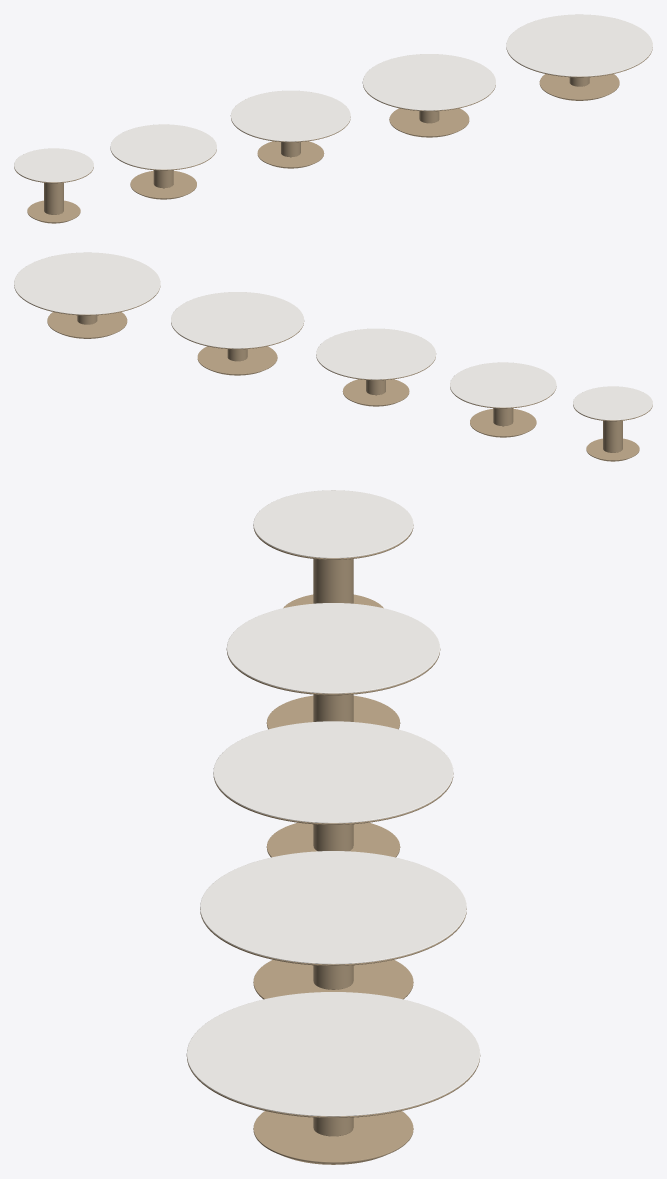
File: orbit3d_familia.glb
3 renders of one model, top to bottom at view 1: azimuth 30°, elevation 25°; view 2: azimuth 150°, elevation 25°; view 3: azimuth 270°, elevation 25°, orthographic. The views are drawn at different scales.
Parts seen in each view (by area): view 1: Top Orbit Coffee Table 024, Top Orbit Coffee Table 023, Top Orbit Coffee Table 022, Top Orbit Coffee Table 021, Top Orbit Coffee Table 020, Base Orbit Coffee Table 023, Base Orbit Coffee Table 024, Base Orbit Coffee Table 021, Base Orbit Coffee Table 022, Base Orbit Coffee Table 020, Base Element Orbit Coffee Table 023, Base Element Orbit Coffee Table 024; view 2: Top Orbit Coffee Table 024, Top Orbit Coffee Table 023, Top Orbit Coffee Table 022, Top Orbit Coffee Table 021, Top Orbit Coffee Table 020, Base Orbit Coffee Table 023, Base Orbit Coffee Table 024, Base Orbit Coffee Table 021, Base Orbit Coffee Table 022, Base Orbit Coffee Table 020, Base Element Orbit Coffee Table 023, Base Element Orbit Coffee Table 024; view 3: Top Orbit Coffee Table 024, Top Orbit Coffee Table 023, Top Orbit Coffee Table 022, Top Orbit Coffee Table 021, Top Orbit Coffee Table 020, Base Orbit Coffee Table 024, Base Orbit Coffee Table 023, Base Orbit Coffee Table 022, Base Orbit Coffee Table 021, Base Element Orbit Coffee Table 023, Base Element Orbit Coffee Table 024, Base Element Orbit Coffee Table 025.
Boxes of the visible parts, box(x1,y1,x2,y2) form: Top Orbit Coffee Table 024: box(506, 14, 652, 76); Top Orbit Coffee Table 023: box(362, 54, 495, 110); Top Orbit Coffee Table 022: box(231, 90, 350, 141); Top Orbit Coffee Table 021: box(110, 124, 216, 169); Top Orbit Coffee Table 020: box(14, 148, 93, 182); Base Orbit Coffee Table 023: box(389, 108, 469, 137); Base Orbit Coffee Table 024: box(539, 74, 619, 100); Base Orbit Coffee Table 021: box(130, 170, 196, 199); Base Orbit Coffee Table 022: box(257, 141, 324, 168); Base Orbit Coffee Table 020: box(27, 200, 80, 223); Base Element Orbit Coffee Table 023: box(44, 182, 63, 214); Base Element Orbit Coffee Table 024: box(153, 170, 173, 188); Top Orbit Coffee Table 024: box(14, 252, 160, 314); Top Orbit Coffee Table 023: box(171, 292, 304, 348); Top Orbit Coffee Table 022: box(316, 328, 435, 379); Top Orbit Coffee Table 021: box(450, 362, 556, 407); Top Orbit Coffee Table 020: box(573, 386, 652, 420); Base Orbit Coffee Table 023: box(197, 346, 277, 375); Base Orbit Coffee Table 024: box(47, 312, 127, 338); Base Orbit Coffee Table 021: box(470, 408, 536, 437); Base Orbit Coffee Table 022: box(342, 379, 409, 406); Base Orbit Coffee Table 020: box(586, 438, 639, 461); Base Element Orbit Coffee Table 023: box(603, 420, 622, 452); Base Element Orbit Coffee Table 024: box(493, 408, 513, 426); Top Orbit Coffee Table 024: box(186, 992, 480, 1116); Top Orbit Coffee Table 023: box(200, 851, 466, 964); Top Orbit Coffee Table 022: box(213, 721, 453, 823); Top Orbit Coffee Table 021: box(226, 603, 440, 693); Top Orbit Coffee Table 020: box(253, 490, 413, 558); Base Orbit Coffee Table 024: box(253, 1111, 413, 1164); Base Orbit Coffee Table 023: box(253, 960, 413, 999); Base Orbit Coffee Table 022: box(266, 822, 400, 857); Base Orbit Coffee Table 021: box(266, 695, 400, 729); Base Element Orbit Coffee Table 023: box(313, 559, 353, 603); Base Element Orbit Coffee Table 024: box(313, 694, 353, 721); Base Element Orbit Coffee Table 025: box(313, 824, 353, 851).
Size of the model in its own units: 5.4 by 0.404 by 1.1.
